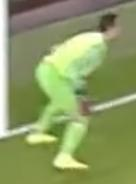goalkeeper: (16, 9, 136, 184)
